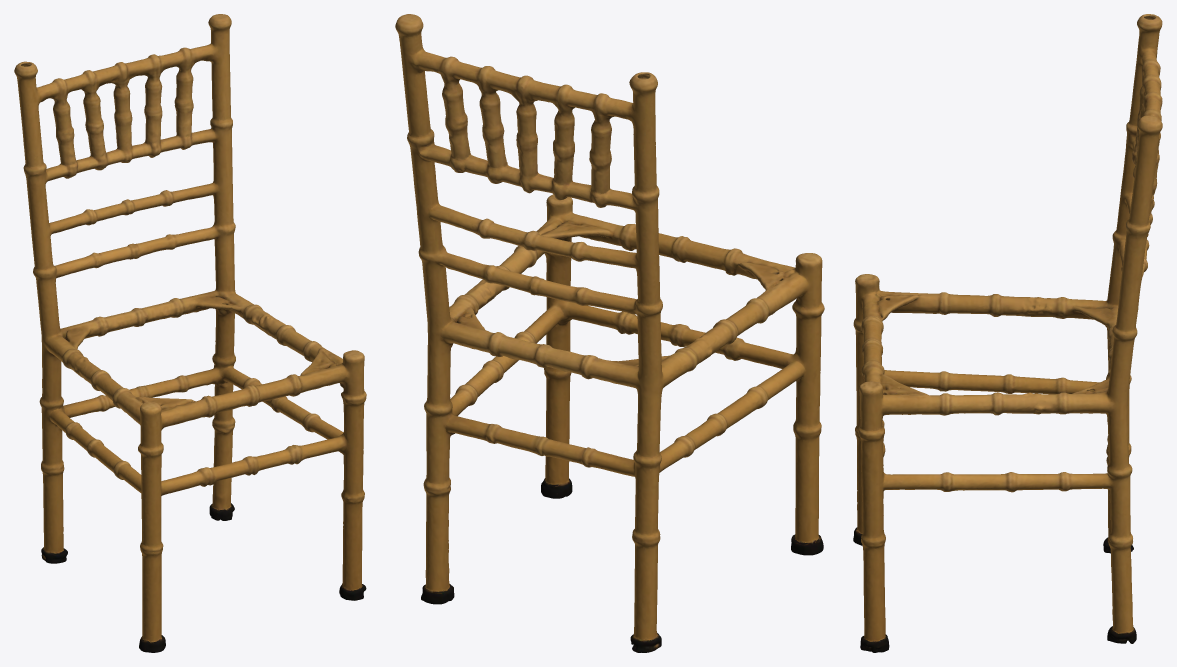
Rendered from Faux Bamboo Wooden Side Chair Frame [hoXnJi].glb.
3 views of the same model, side by side, from view 1: azimuth 30°, elevation 25°; view 2: azimuth 150°, elevation 25°; view 3: azimuth 270°, elevation 25° (orthographic). The views are drawn at different scales.
Visible parts, largest first — view 1: world; view 2: world; view 3: world.
Part boxes in pixels (x1,y1,x2,y2): world: (14,14,366,652); world: (395,14,824,652); world: (853,14,1162,652).
Size of the model in its own units: 0.4905 by 1 by 0.5347.
Materials: 1 (1 with a texture image).
